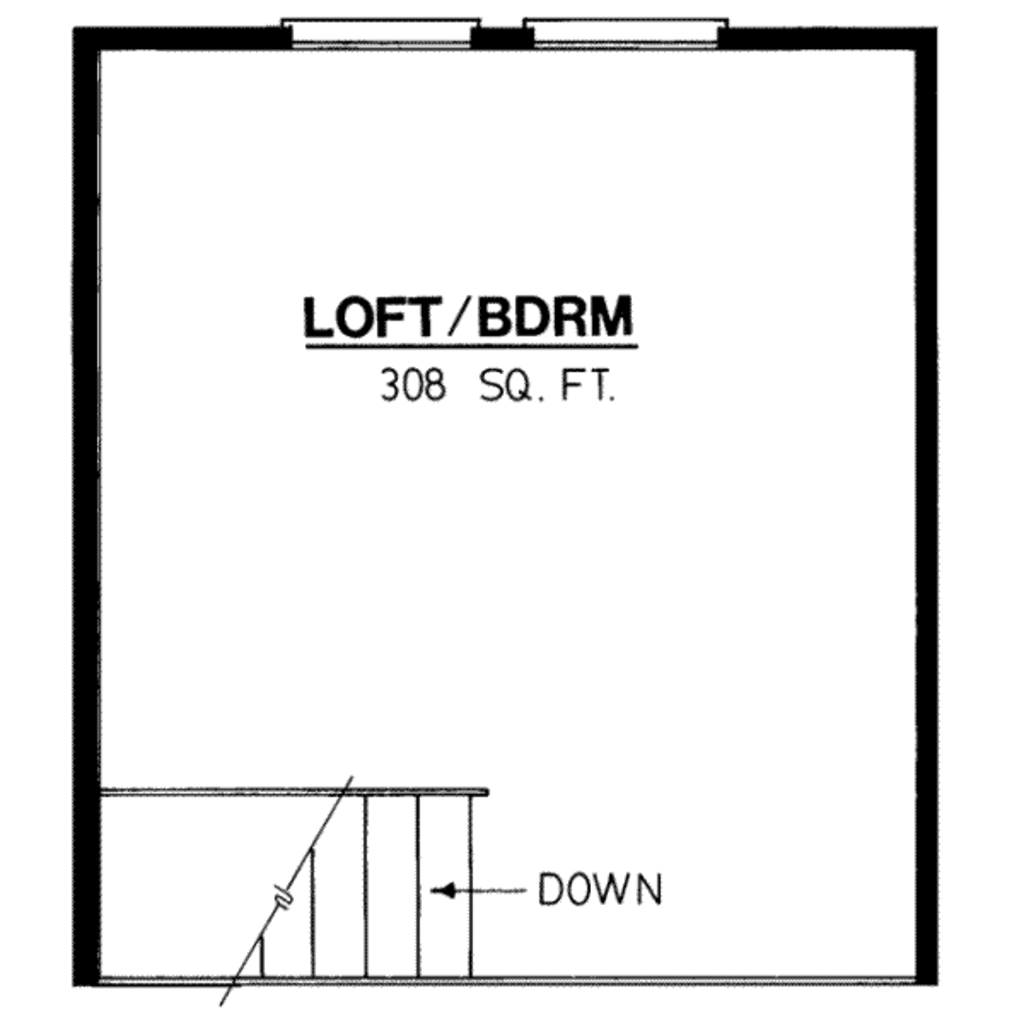stairs: (92, 777, 523, 983)
window: (527, 13, 727, 55), (284, 19, 488, 52)
